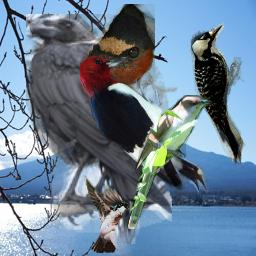Crow: (26, 14, 172, 244)
Cuckoo: (127, 95, 214, 229)
Swallow: (80, 4, 155, 89), (83, 175, 130, 253)
Woodpecker: (80, 54, 211, 195), (184, 20, 255, 175)
